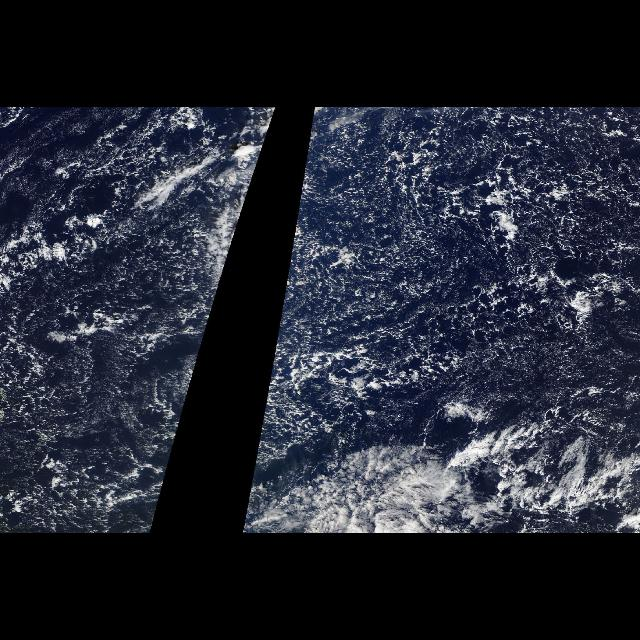Gravel: (251, 108, 639, 472), (1, 107, 276, 533)
